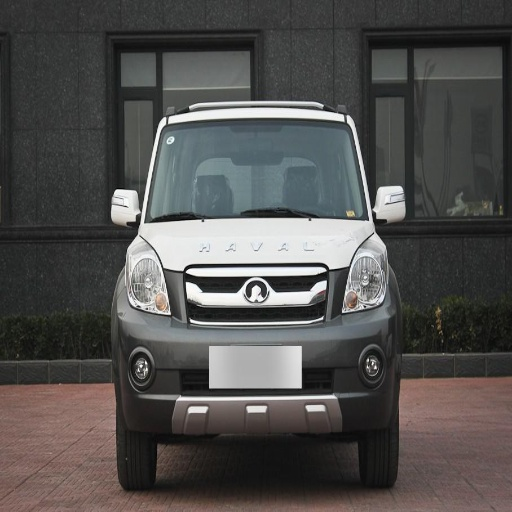front_bumper: (116, 267, 396, 435)
front_right_light: (122, 245, 176, 315)
hood: (142, 218, 371, 270)
left_mirror: (373, 186, 406, 228)
